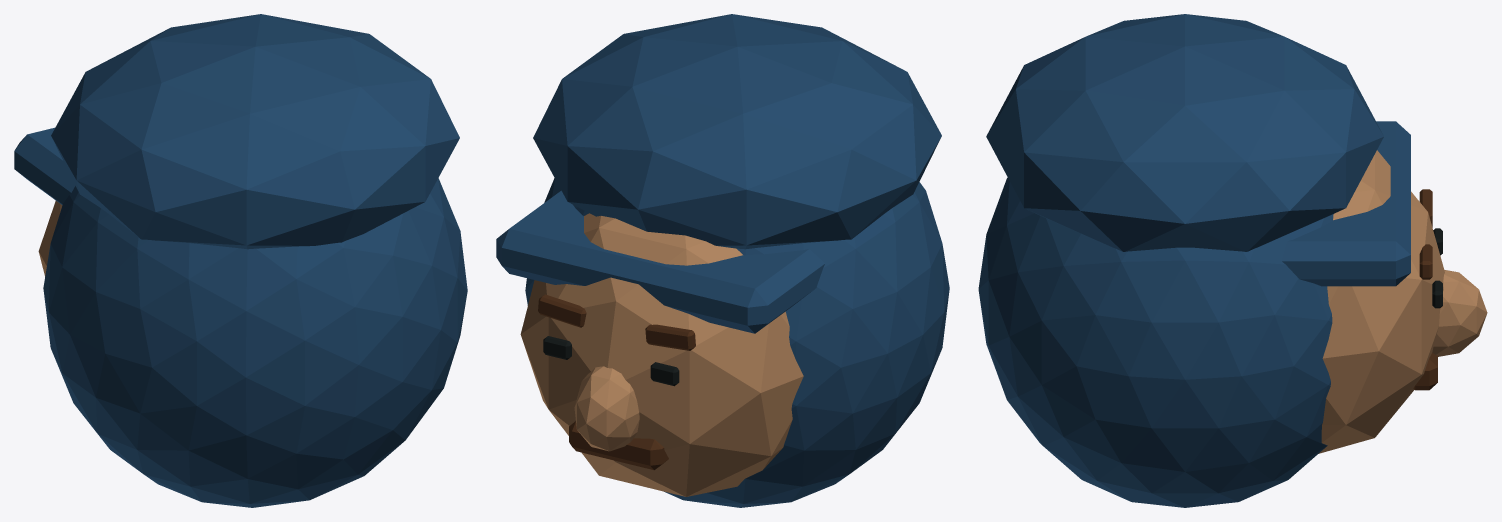
The model's file is Head.glb.
3 renders of one model, left to right at view 1: azimuth 30°, elevation 25°; view 2: azimuth 150°, elevation 25°; view 3: azimuth 270°, elevation 25°, orthographic.
Visible parts, largest first — view 1: Sculpture; view 2: Sculpture; view 3: Sculpture.
Boxes of the visible parts, x1,y1,x2,y2 form: Sculpture: [14, 14, 467, 507]; Sculpture: [496, 14, 949, 507]; Sculpture: [978, 14, 1487, 507].
Size of the model in its own units: 0.56 by 0.64 by 0.665.
